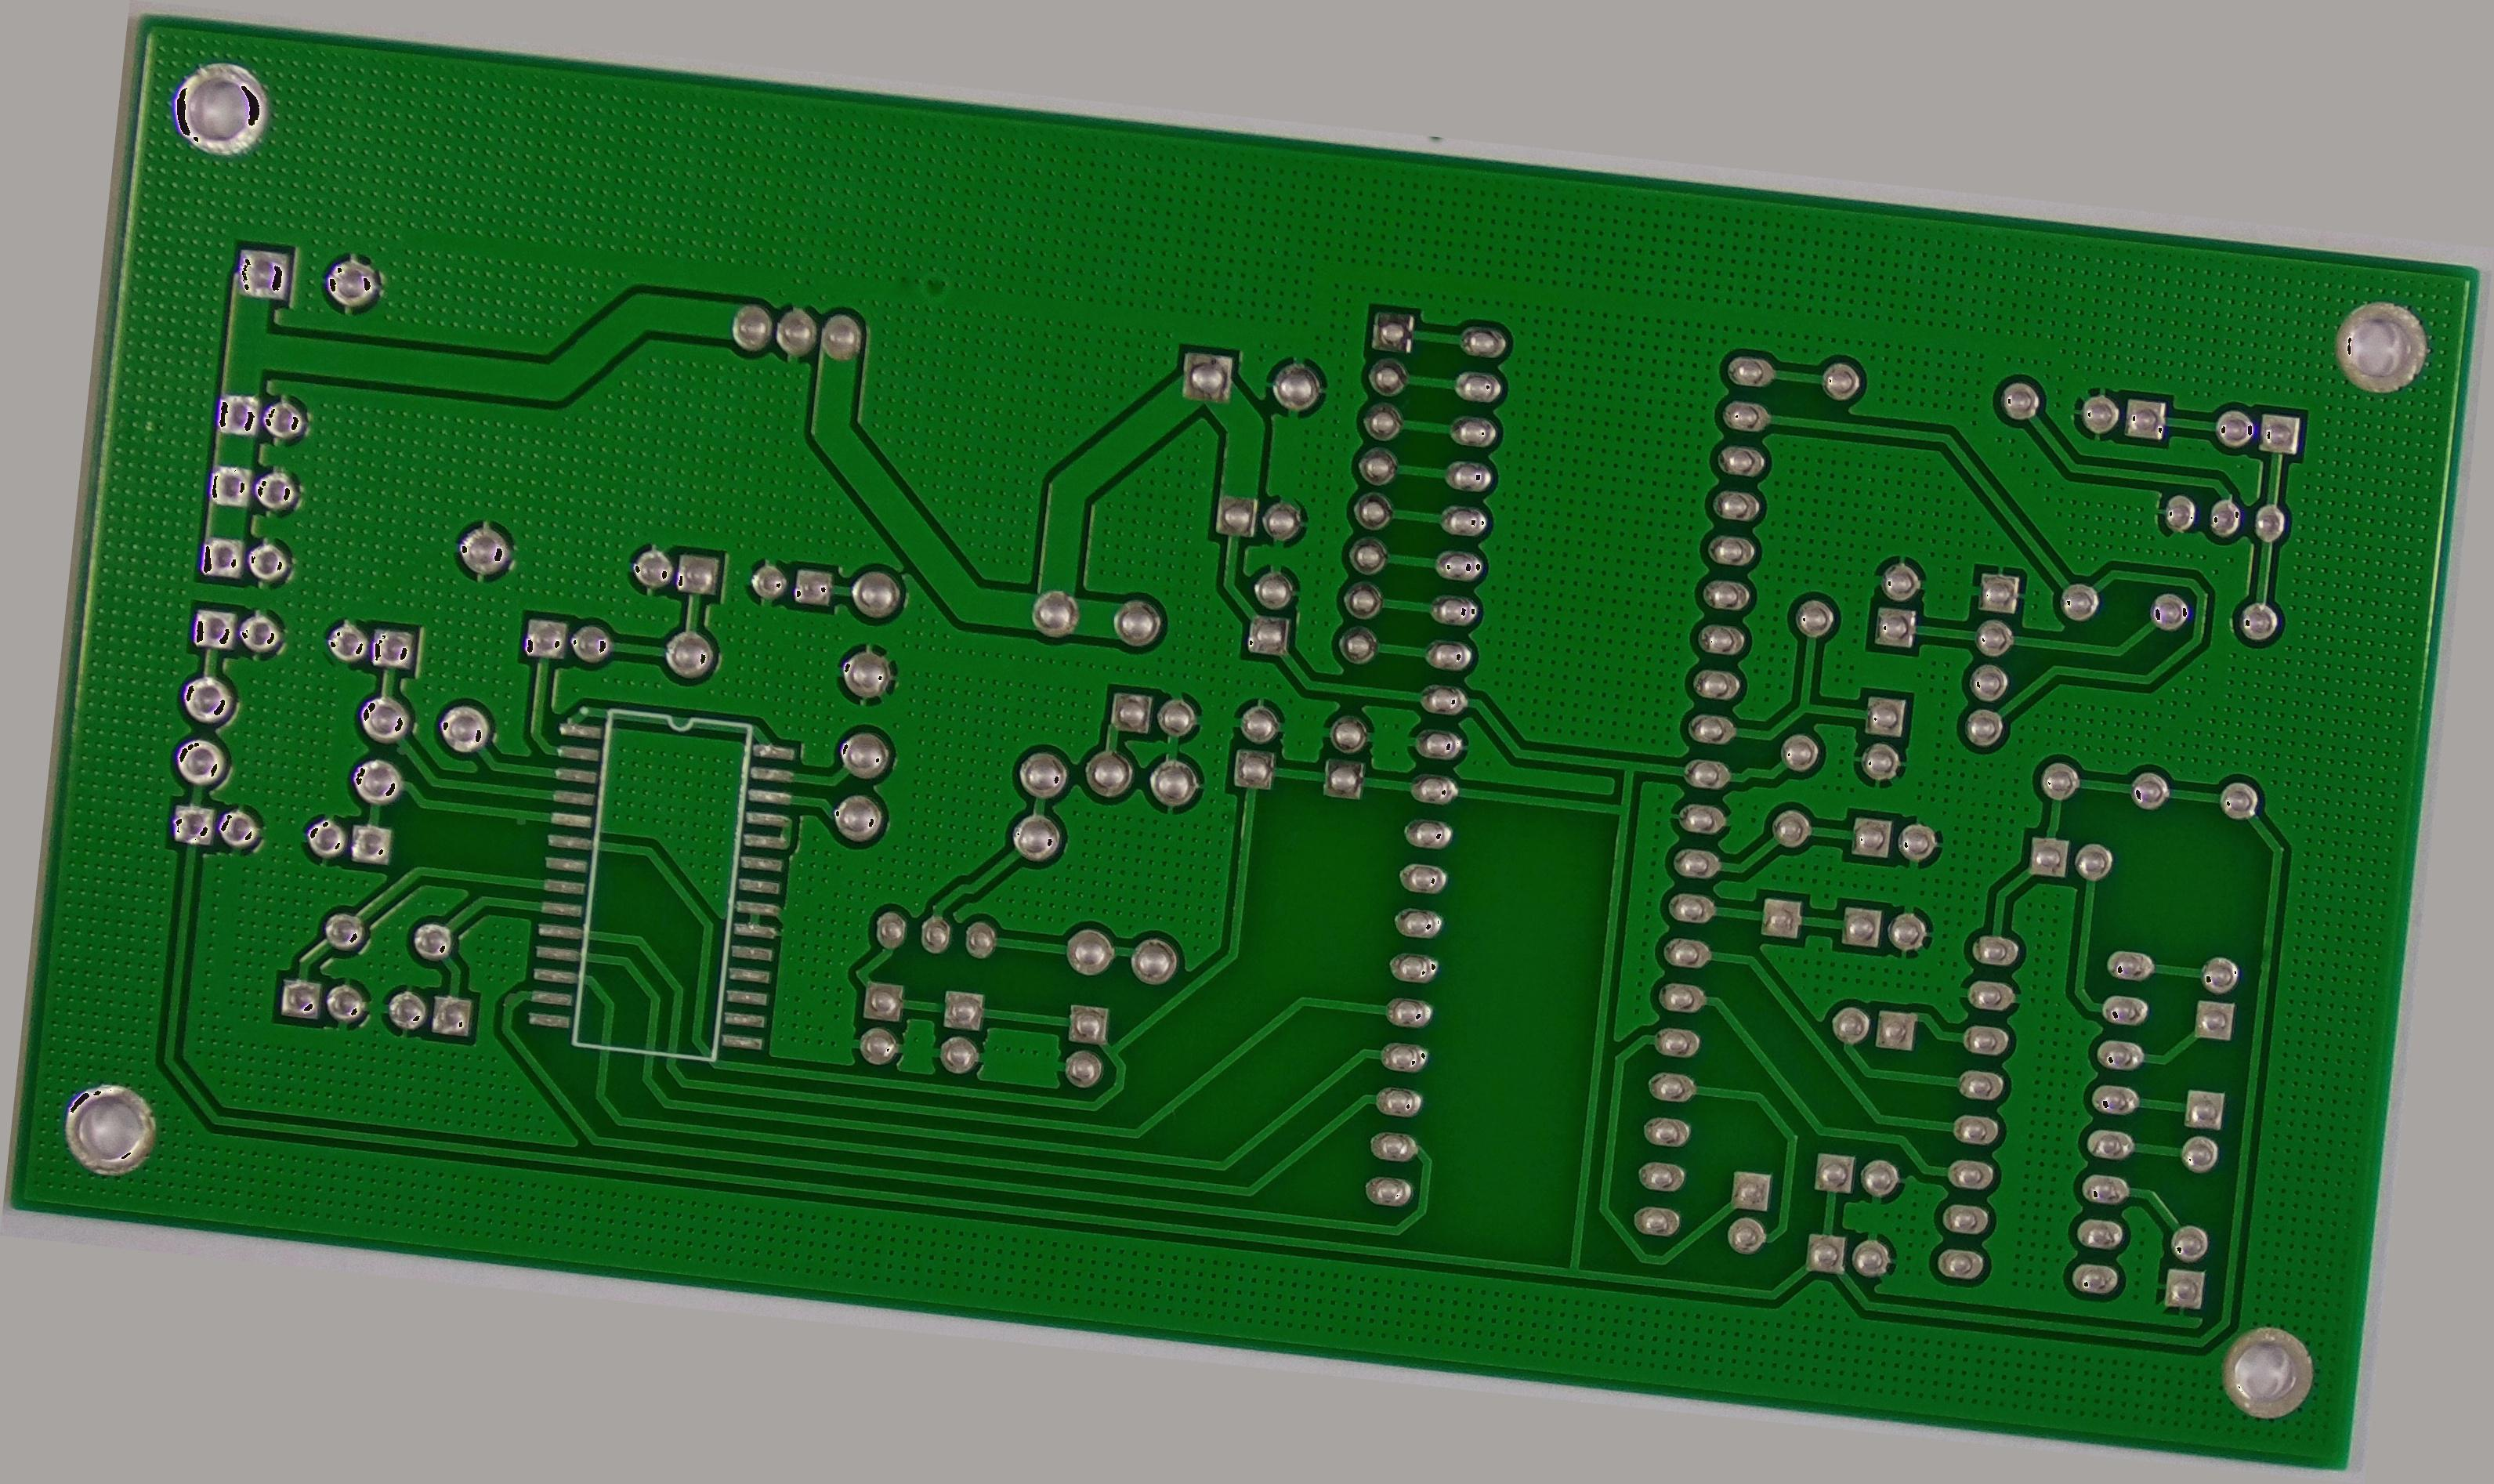spur: (495, 980, 533, 1019), (505, 804, 537, 837)
